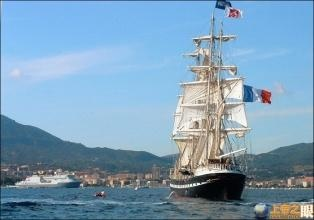fanchuan: (162, 1, 262, 198)
